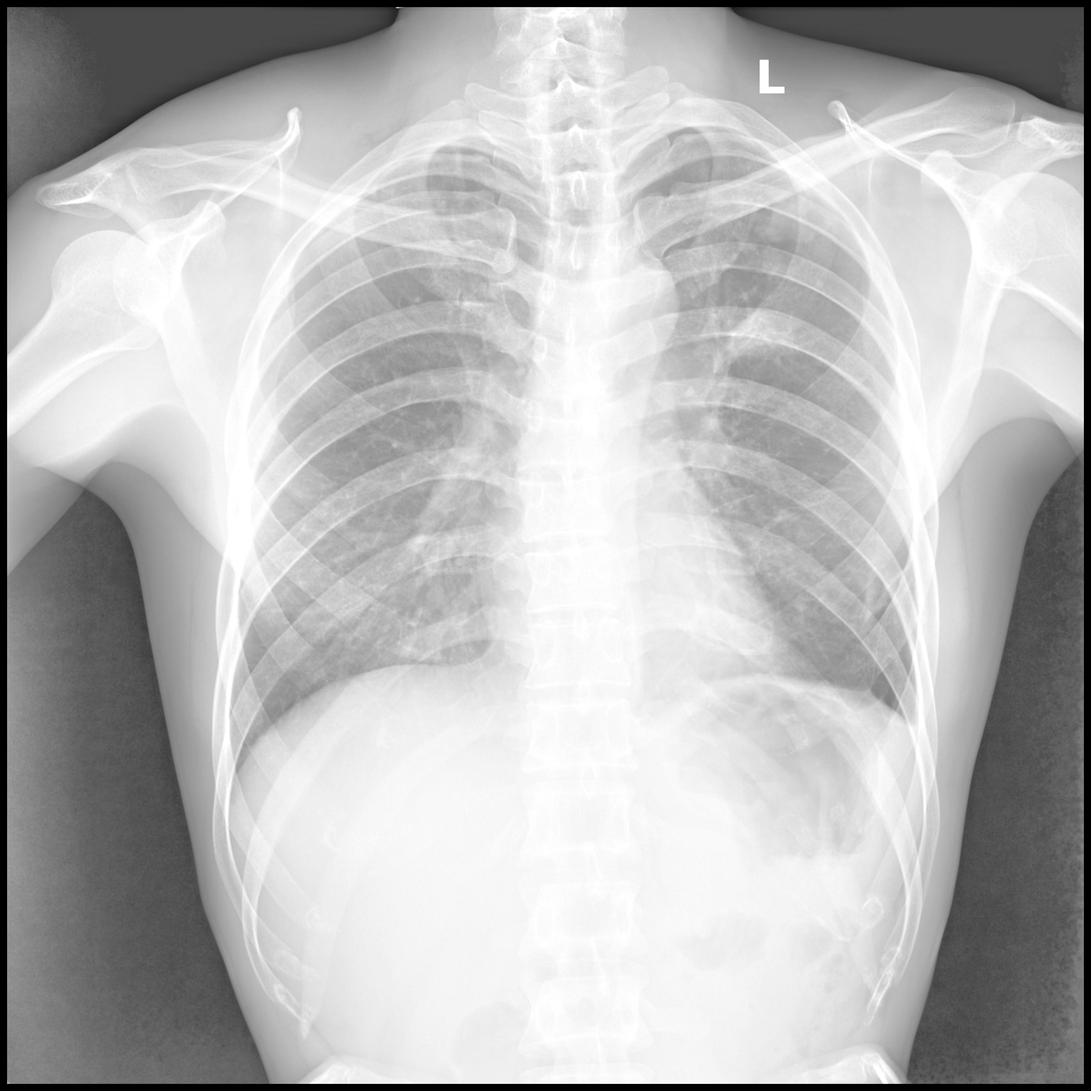Aortic enlargement: (601, 244, 682, 370)
Pleural thickening: (826, 679, 936, 744)
